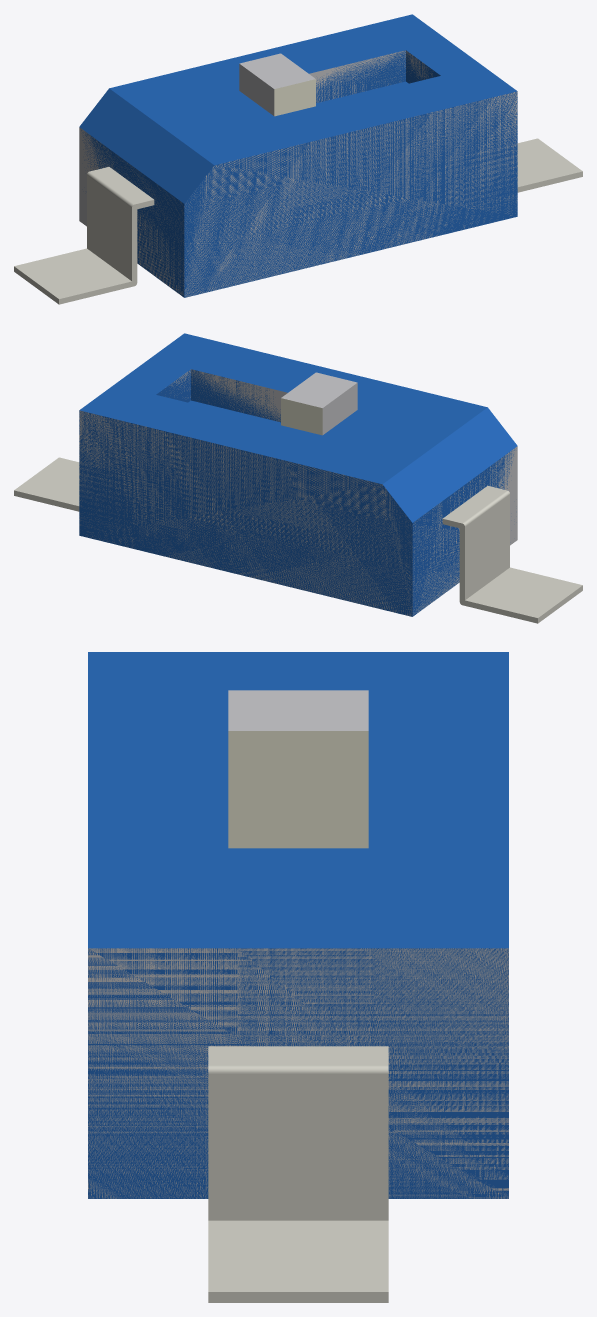
The model's file is kc-sw_spst_reed_ct05-xxxx-g1.glb.
3 renders of one model, top to bottom at view 1: azimuth 30°, elevation 25°; view 2: azimuth 150°, elevation 25°; view 3: azimuth 270°, elevation 25°, orthographic. The views are drawn at different scales.
Visible parts, largest first — view 1: 0_0.16666666666666666_0.5_0, 0.5833333333333334_0.5833333333333334_0.5833333333333334_0.8, 0.6666666666666666_0.6666666666666666_0.5833333333333334_0.8, 0.75_0.75_0.6666666666666666_0; view 2: 0_0.16666666666666666_0.5_0, 0.5833333333333334_0.5833333333333334_0.5833333333333334_0.8, 0.6666666666666666_0.6666666666666666_0.5833333333333334_0.8, 0.75_0.75_0.6666666666666666_0; view 3: 0_0.16666666666666666_0.5_0, 0.5833333333333334_0.5833333333333334_0.5833333333333334_0.8, 0.6666666666666666_0.6666666666666666_0.5833333333333334_0.8, 0.75_0.75_0.6666666666666666_0.
Part boxes in pixels (<box>): 0_0.16666666666666666_0.5_0: <box>79,14,517,297</box>; 0.5833333333333334_0.5833333333333334_0.5833333333333334_0.8: <box>79,50,517,297</box>; 0.6666666666666666_0.6666666666666666_0.5833333333333334_0.8: <box>14,138,582,304</box>; 0.75_0.75_0.6666666666666666_0: <box>274,79,315,116</box>; 0_0.16666666666666666_0.5_0: <box>79,333,517,616</box>; 0.5833333333333334_0.5833333333333334_0.5833333333333334_0.8: <box>79,369,517,615</box>; 0.6666666666666666_0.6666666666666666_0.5833333333333334_0.8: <box>14,457,582,623</box>; 0.75_0.75_0.6666666666666666_0: <box>281,398,322,435</box>; 0_0.16666666666666666_0.5_0: <box>88,652,508,1198</box>; 0.5833333333333334_0.5833333333333334_0.5833333333333334_0.8: <box>88,690,508,1198</box>; 0.6666666666666666_0.6666666666666666_0.5833333333333334_0.8: <box>208,1046,388,1302</box>; 0.75_0.75_0.6666666666666666_0: <box>228,731,368,848</box>.
Size of the model in its own units: 1.01 by 0.29 by 0.35.
